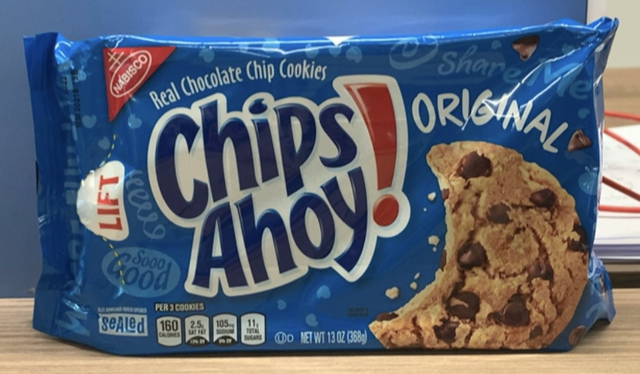cookies_450g: (71, 54, 572, 347)
